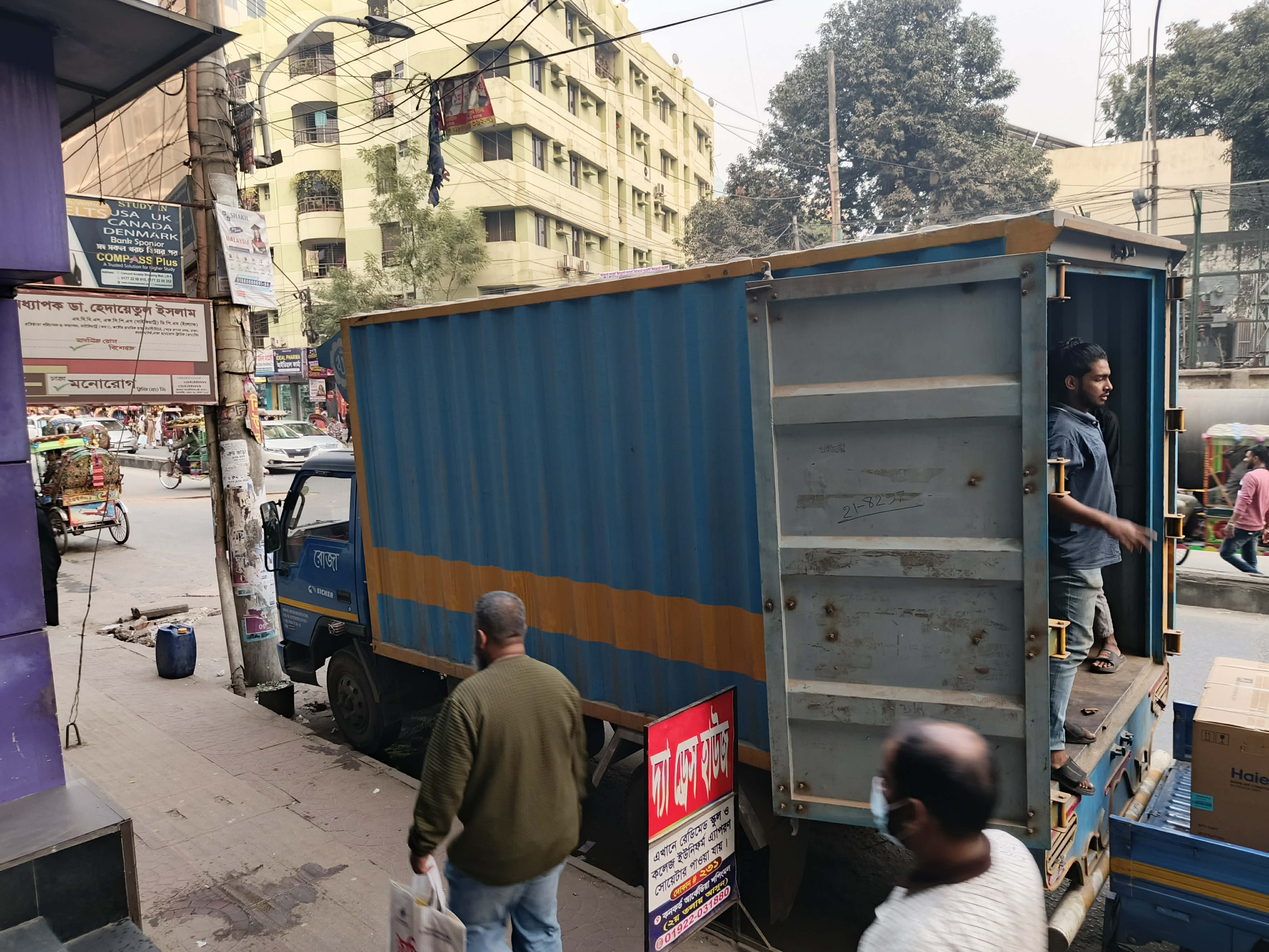Pickup: (225, 207, 1217, 880)
